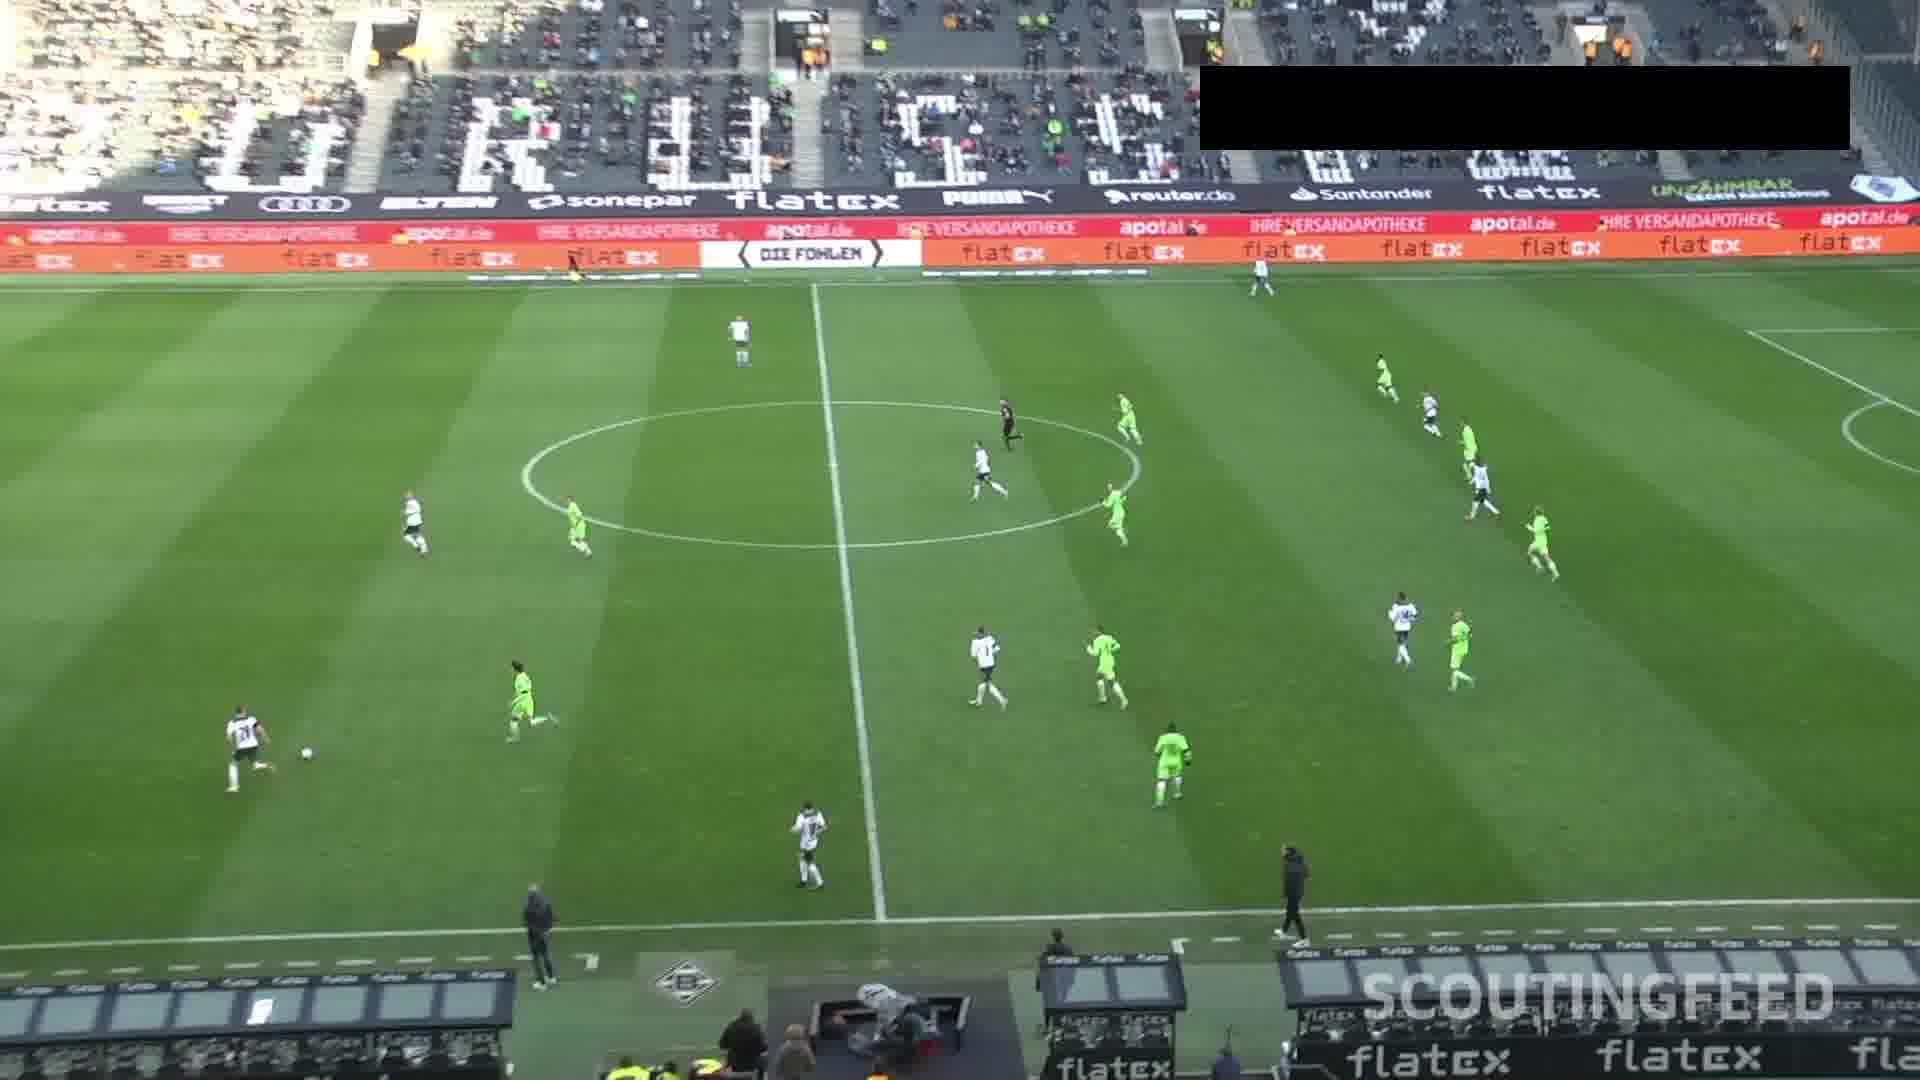football: (299, 745, 314, 761)
